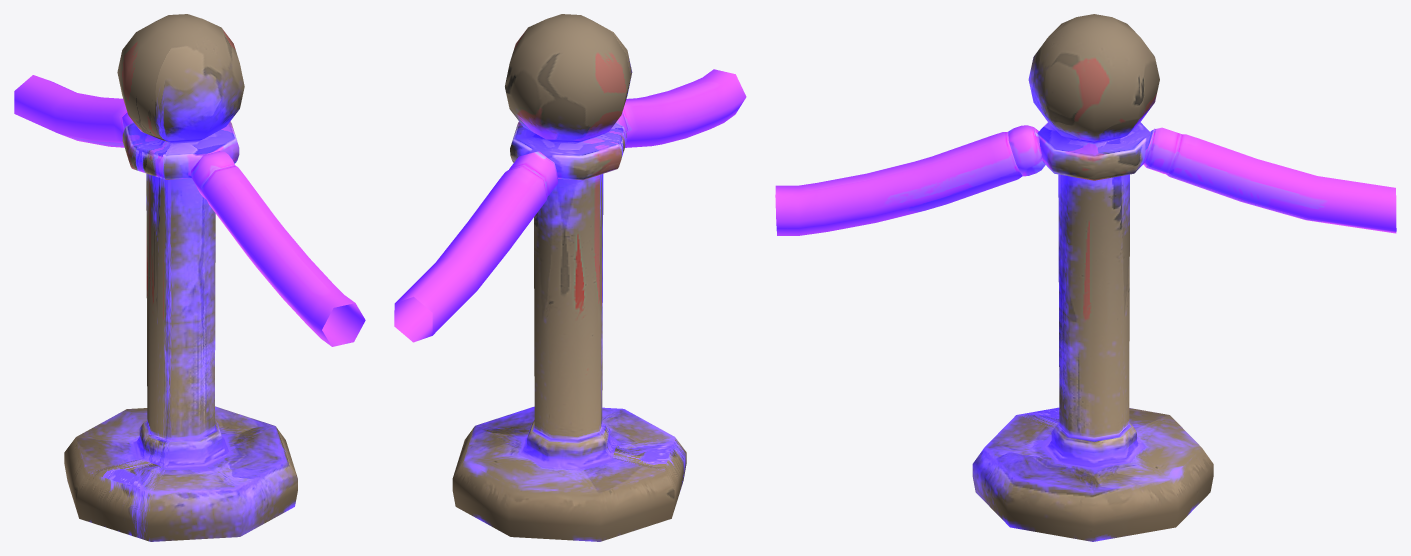
Rendered from poste_doble_cinta.fbx.
3 renders of one model, left to right at view 1: azimuth 30°, elevation 25°; view 2: azimuth 150°, elevation 25°; view 3: azimuth 270°, elevation 25°, orthographic.
Visible parts, largest first — view 1: poste_doble_cinta; view 2: poste_doble_cinta; view 3: poste_doble_cinta.
Part boxes in pixels (<box>): poste_doble_cinta: <box>14,14,365,541</box>; poste_doble_cinta: <box>394,14,746,541</box>; poste_doble_cinta: <box>775,14,1396,541</box>.
Size of what is drawn, in the model's own units: 22.47 by 48.57 by 57.86.
